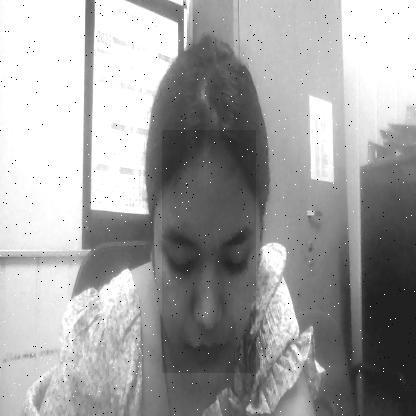Normal: (162, 130, 256, 373)
